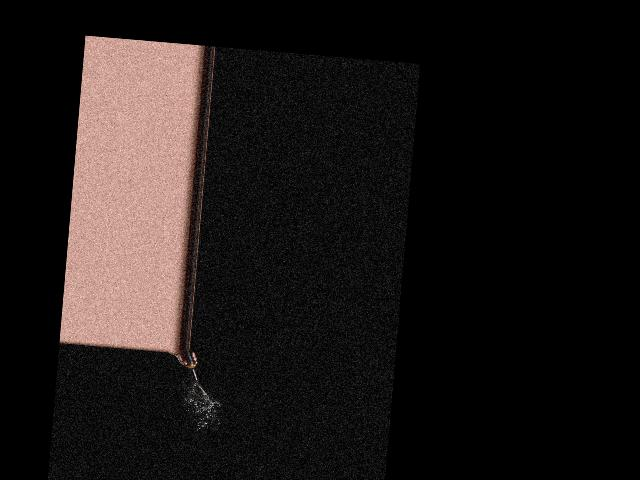beer: (175, 347, 201, 383)
